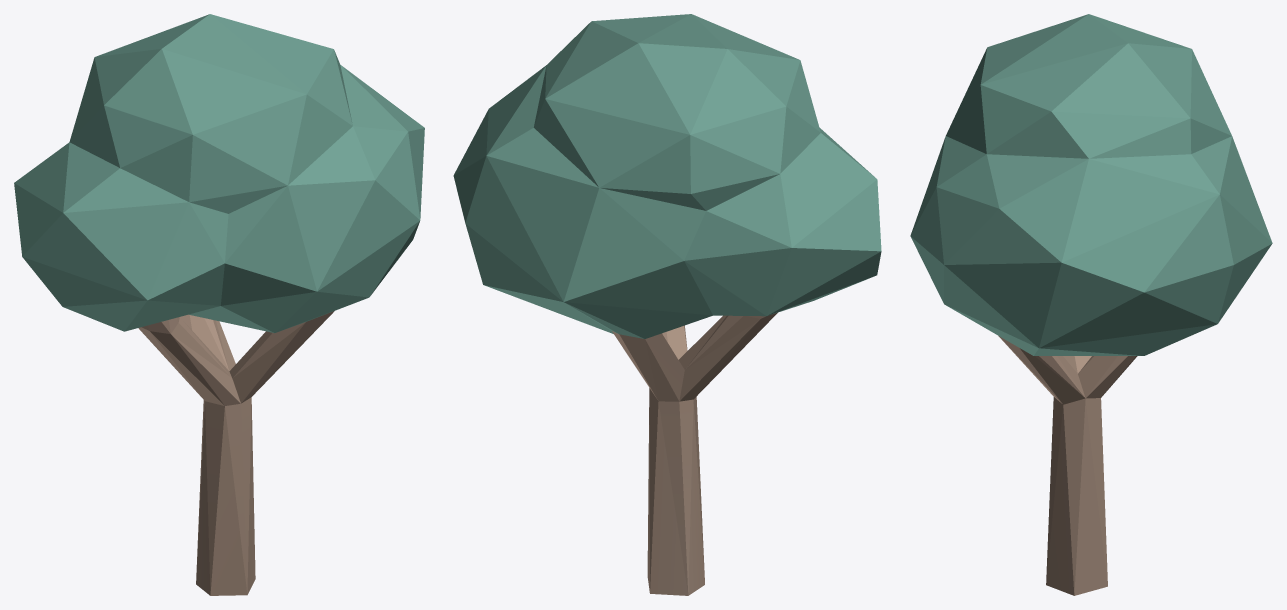
File: tree3.fbx
3 views of the same model, side by side, from view 1: azimuth 30°, elevation 25°; view 2: azimuth 150°, elevation 25°; view 3: azimuth 270°, elevation 25° (orthographic). The views are drawn at different scales.
Visible parts, largest first — view 1: tree; view 2: tree; view 3: tree.
Boxes of the visible parts, box(x1,y1,x2,y2) form: tree: box(14, 14, 424, 595); tree: box(453, 14, 881, 595); tree: box(910, 14, 1272, 595).
Size of the model in its own units: 811 by 1079 by 651.
